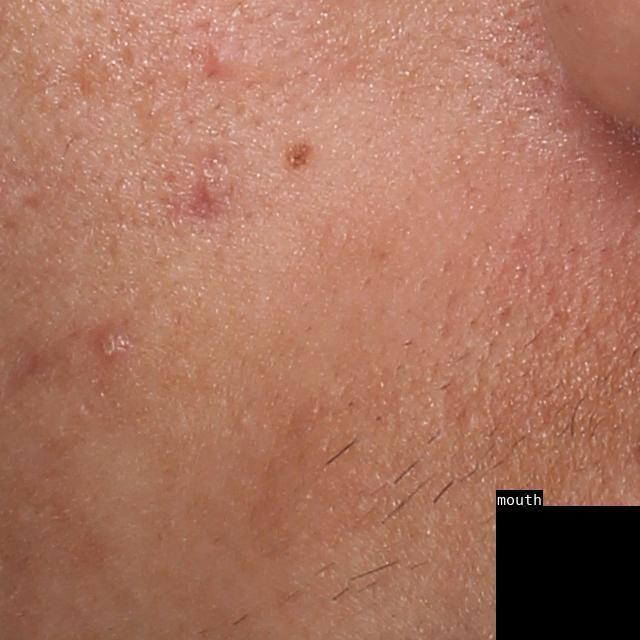atrophic_scar: (182, 173, 218, 227), (8, 189, 48, 213)
papule: (204, 43, 238, 75)
